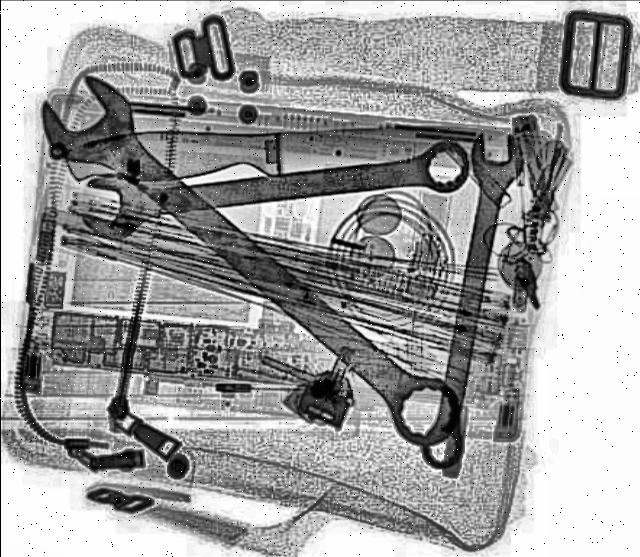Knife: (60, 108, 504, 186)
Wrench: (17, 66, 487, 461), (72, 131, 474, 243), (409, 130, 525, 472)
